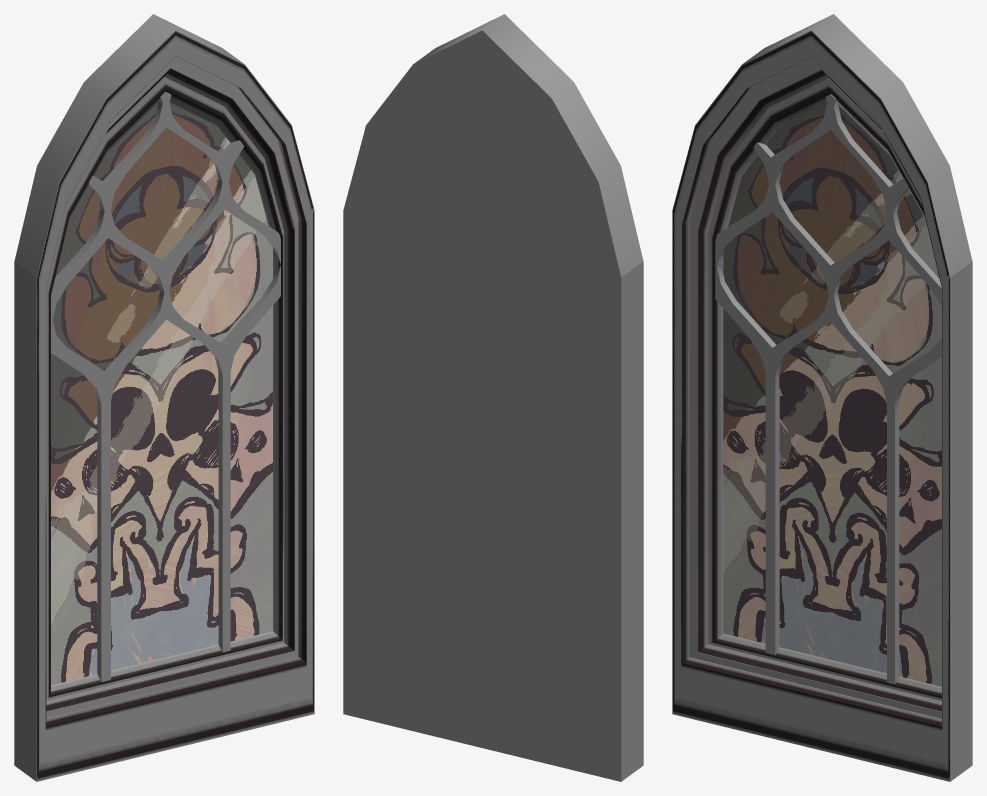
Rendered from glasspane.fbx.
3 views of the same model, side by side, from view 1: azimuth 30°, elevation 25°; view 2: azimuth 150°, elevation 25°; view 3: azimuth 330°, elevation 25° (orthographic).
Parts seen in each view (by area): view 1: Box011; view 2: Box011; view 3: Box011.
Boxes of the visible parts, x1,y1,x2,y2 form: Box011: (14,14,314,781); Box011: (343,14,643,781); Box011: (672,14,972,781).
Bounding box in the file's own units: 78.55 × 194 × 10.94.
